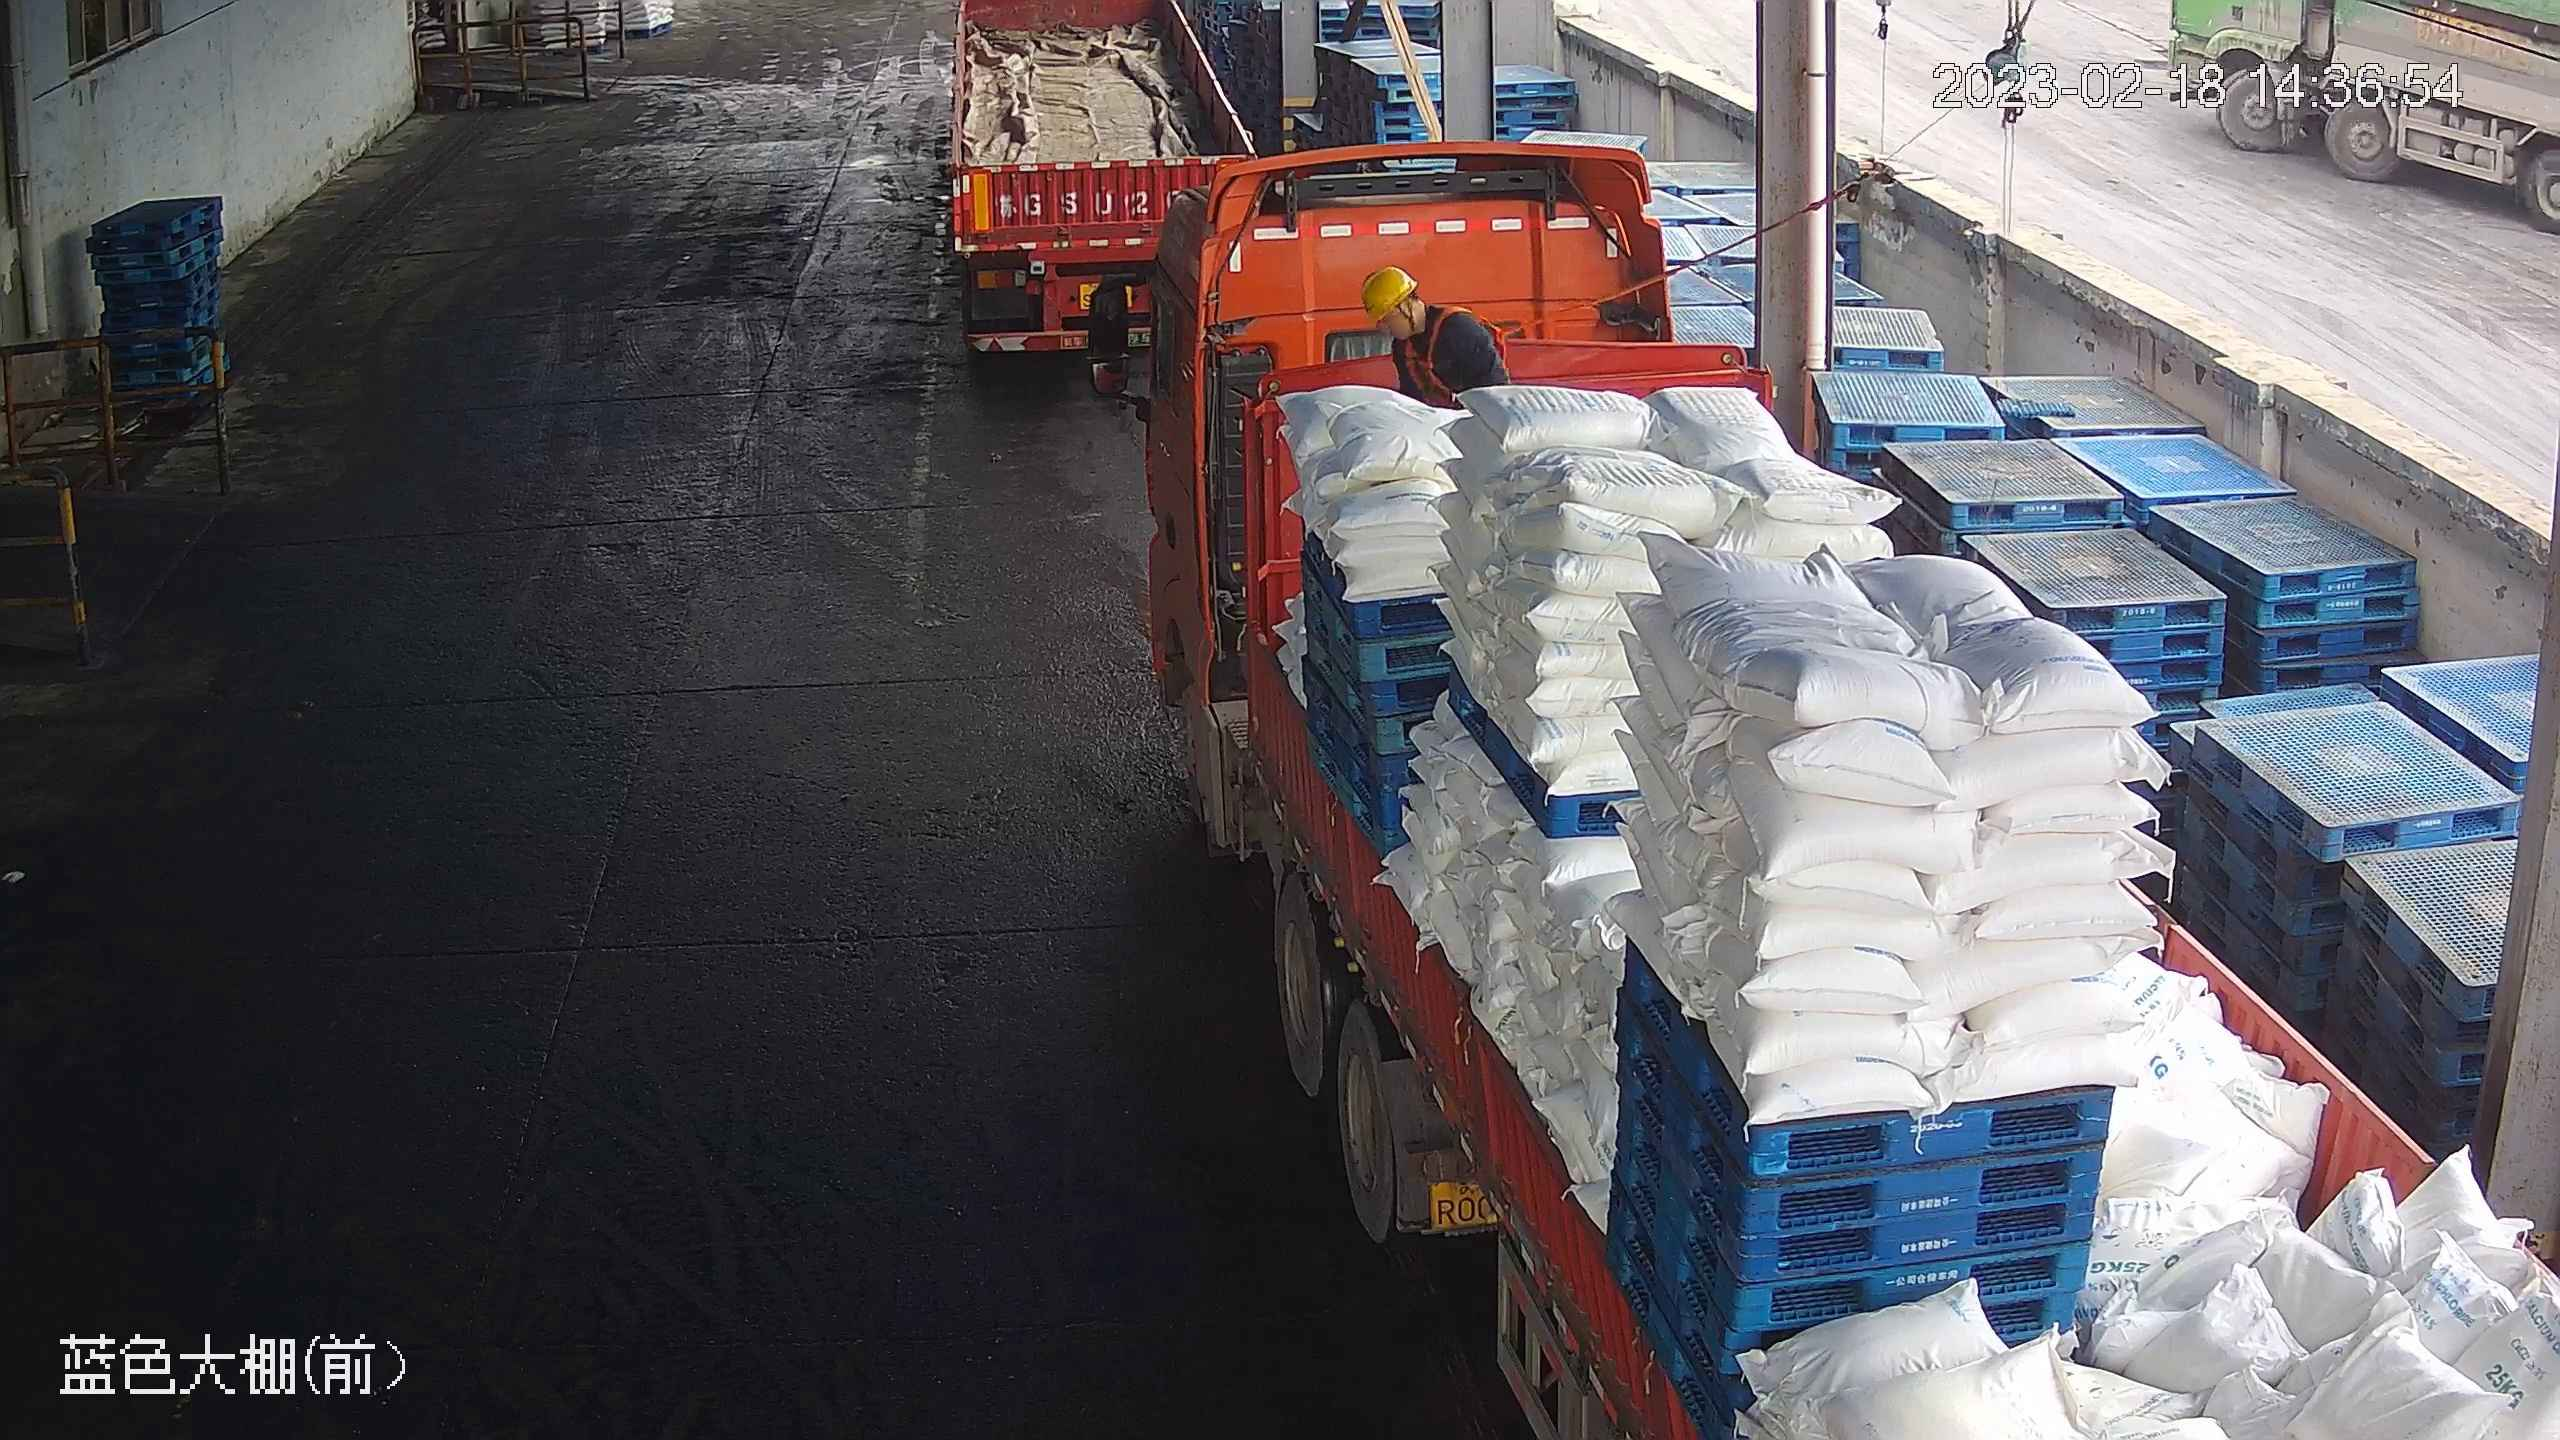belt: (1396, 310, 1481, 404)
head: (1357, 260, 1494, 363)
helmet: (1355, 260, 1421, 323)
truck: (1143, 149, 2560, 1440), (939, 1, 1255, 369)
